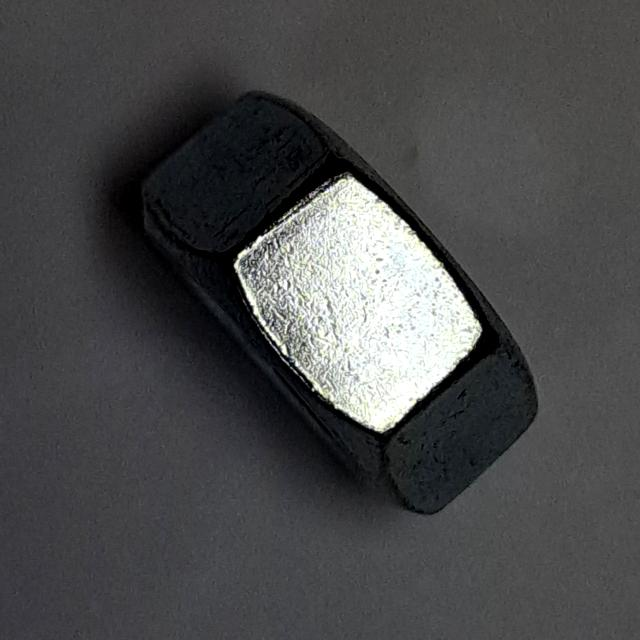Side_Excellent: (130, 79, 556, 528)
